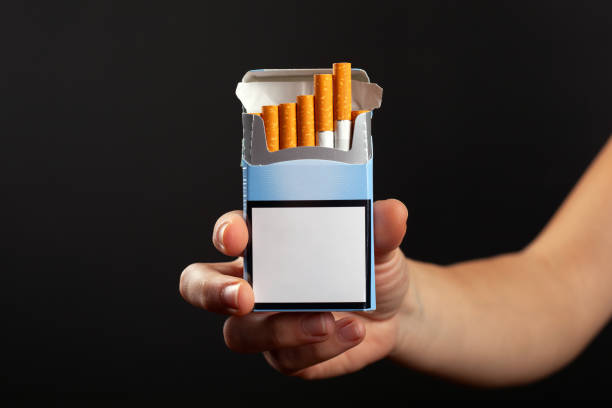cigarette: (236, 67, 384, 313), (332, 61, 350, 153), (313, 73, 334, 148), (296, 93, 315, 148), (262, 104, 279, 153), (281, 101, 297, 150)
